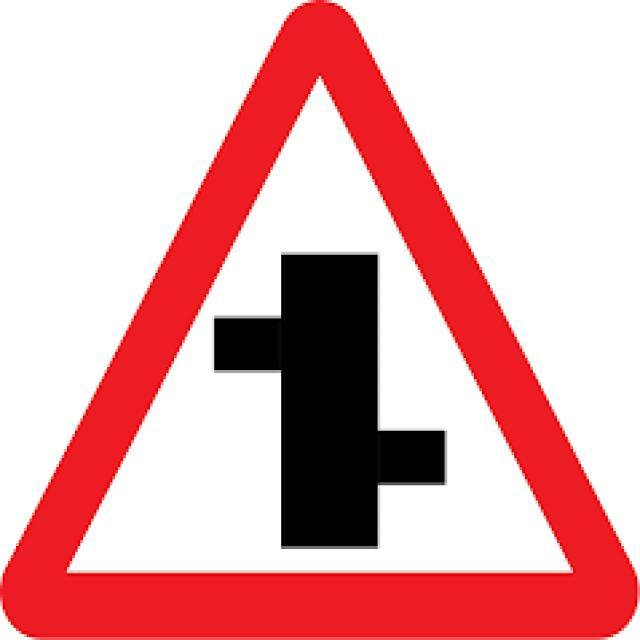staggered intersection: (23, 24, 614, 624)
